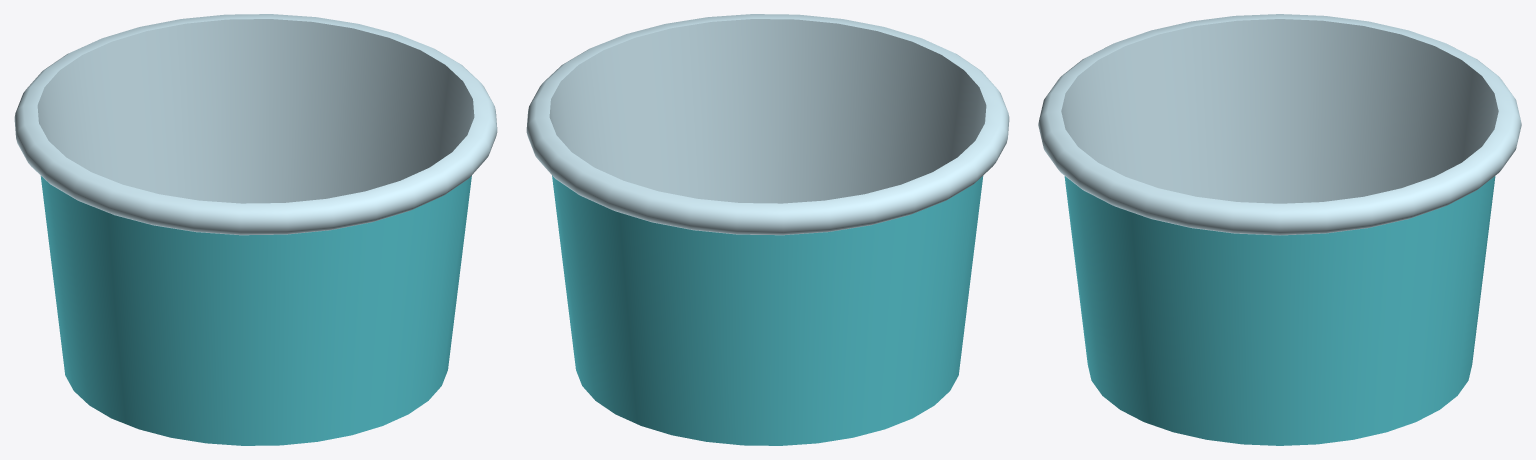
Rendered from Cup Ice Cream D.fbx.
3 renders of one model, left to right at view 1: azimuth 30°, elevation 25°; view 2: azimuth 150°, elevation 25°; view 3: azimuth 270°, elevation 25°, orthographic.
Visible parts, largest first — view 1: Cup Ice Cream D; view 2: Cup Ice Cream D; view 3: Cup Ice Cream D.
Part boxes in pixels (left/top/right/bottom): Cup Ice Cream D: left=14, top=14, right=497, bottom=445; Cup Ice Cream D: left=526, top=14, right=1009, bottom=445; Cup Ice Cream D: left=1038, top=14, right=1521, bottom=445.
Bounding box in the file's own units: 0.7274 × 0.4205 × 0.7274.
